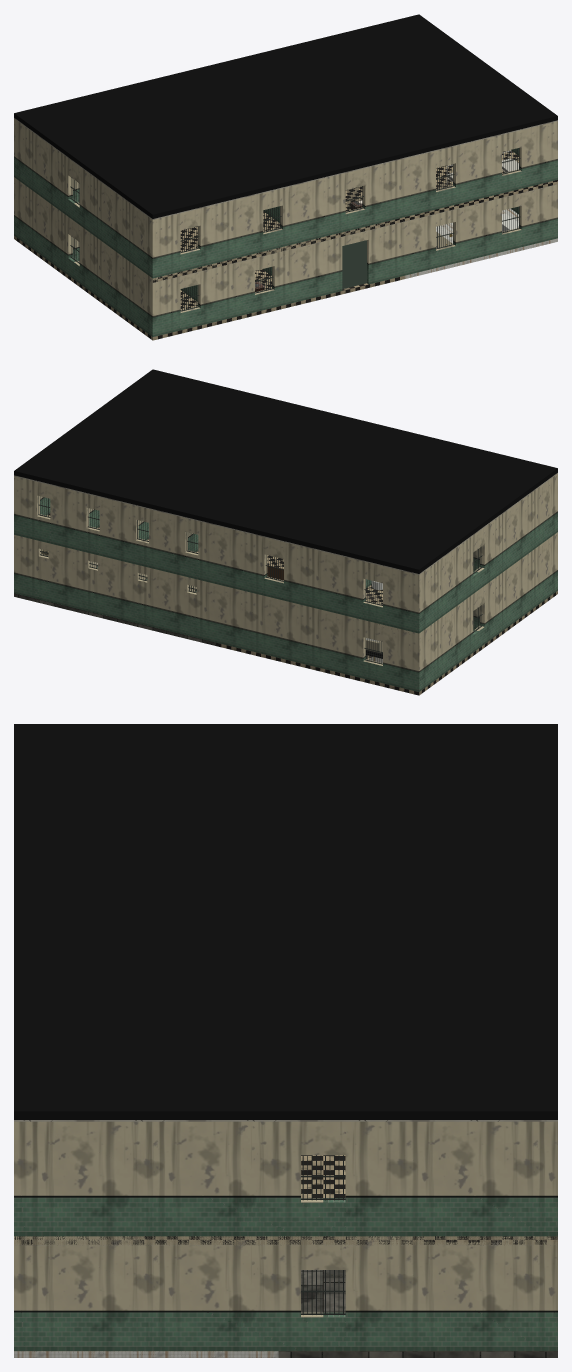
File: bellevue-ward.glb
The picture shows the model from 3 angles, top to bottom: view 1: azimuth 30°, elevation 25°; view 2: azimuth 150°, elevation 25°; view 3: azimuth 270°, elevation 25°; orthographic projection. The views are drawn at different scales.
Parts seen in each view (by area): view 1: Mesh_wall, Mesh_roof, Mesh_lino, Mesh_iron18, Mesh_plaster, Mesh_celldoor, Mesh_floor_tile; view 2: Mesh_wall, Mesh_roof, Mesh_iron18, Mesh_lino, Mesh_plaster, Mesh_flagstone; view 3: Mesh_roof, Mesh_wall, Mesh_lino, Mesh_flagstone, Mesh_floor_tile, Mesh_iron18, Mesh_plaster.
Part boxes in pixels (<box>): Mesh_wall: <box>14,118,557,336</box>; Mesh_roof: <box>14,14,557,218</box>; Mesh_lino: <box>14,150,557,340</box>; Mesh_iron18: <box>70,148,520,311</box>; Mesh_plaster: <box>14,118,557,282</box>; Mesh_celldoor: <box>342,240,366,288</box>; Mesh_floor_tile: <box>404,208,557,278</box>; Mesh_wall: <box>14,473,557,691</box>; Mesh_roof: <box>14,369,557,573</box>; Mesh_iron18: <box>38,496,482,664</box>; Mesh_lino: <box>47,513,557,695</box>; Mesh_plaster: <box>14,473,557,574</box>; Mesh_flagstone: <box>14,593,216,645</box>; Mesh_roof: <box>14,724,557,1119</box>; Mesh_wall: <box>14,1121,557,1351</box>; Mesh_lino: <box>14,1155,557,1244</box>; Mesh_flagstone: <box>278,1270,557,1357</box>; Mesh_floor_tile: <box>14,1351,278,1357</box>; Mesh_iron18: <box>301,1155,345,1314</box>; Mesh_plaster: <box>14,1120,557,1245</box>.
Size of the model in its own units: 24.6 by 7.3 by 14.6.
61 materials, 32 textured.
